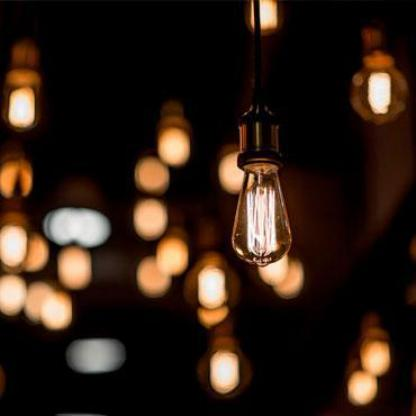other: (136, 131, 230, 317), (5, 200, 103, 335), (243, 188, 294, 265), (206, 346, 249, 397), (372, 62, 397, 116)
